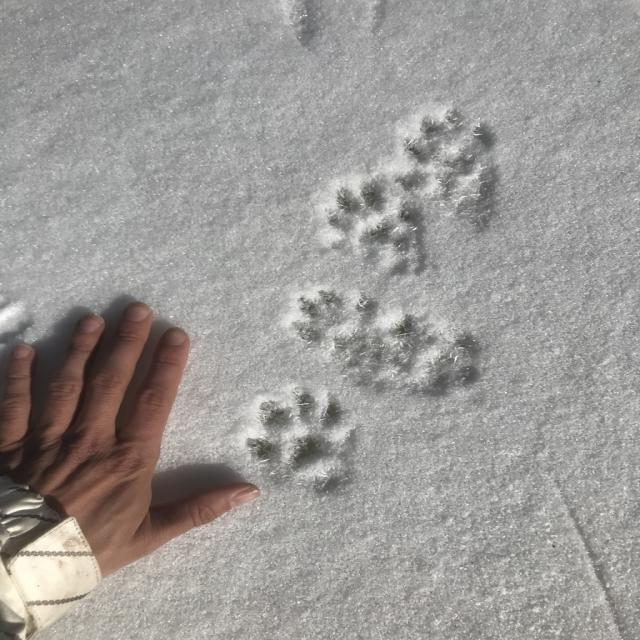mustelid: (242, 390, 364, 490), (408, 107, 507, 228), (325, 177, 431, 278)
